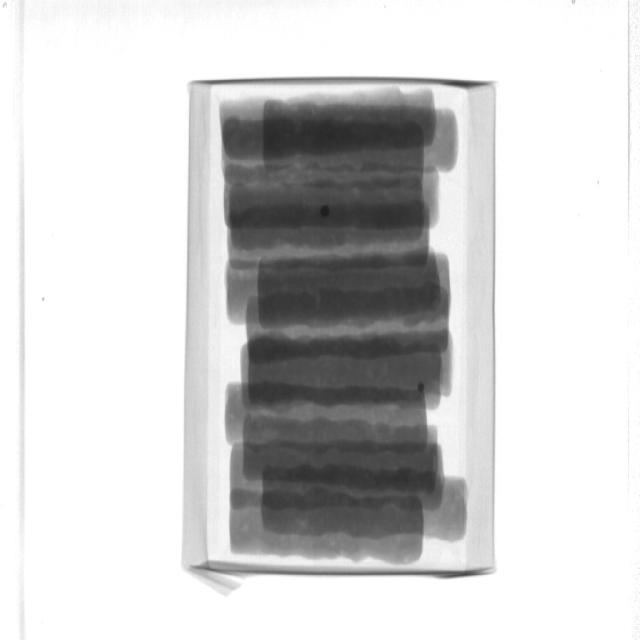ym: (320, 206, 330, 219), (419, 384, 427, 394)
